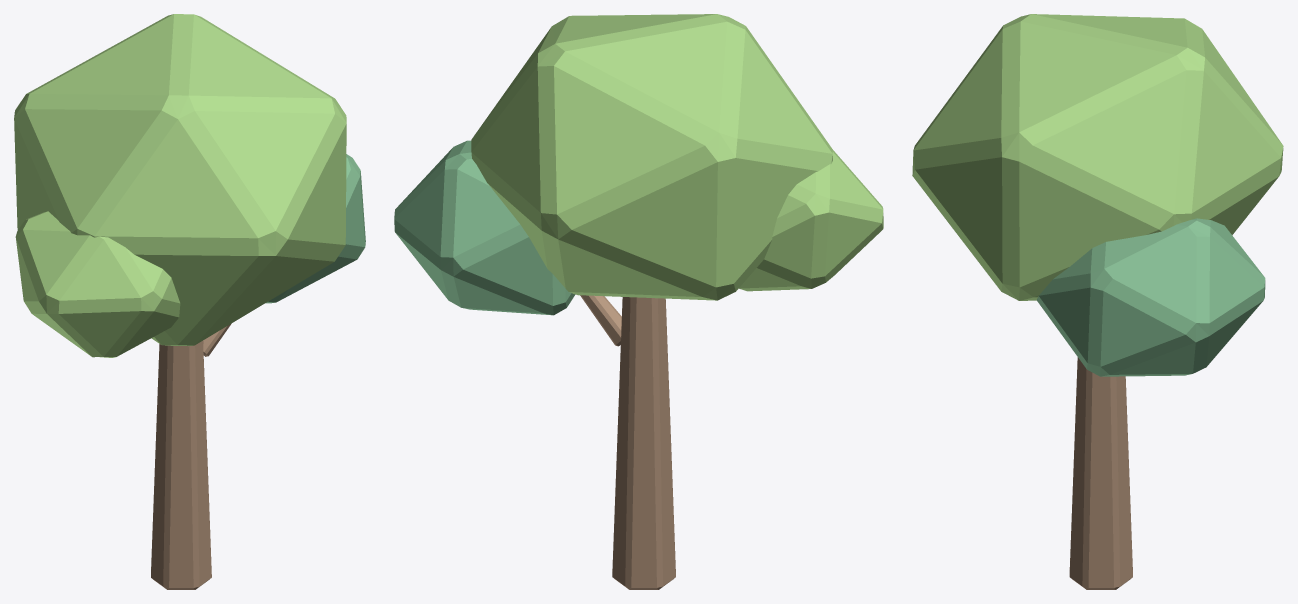
The model's file is arvore.fbx.
The picture shows the model from 3 angles, left to right: view 1: azimuth 30°, elevation 25°; view 2: azimuth 150°, elevation 25°; view 3: azimuth 270°, elevation 25°; orthographic projection. The views are drawn at different scales.
Visible parts, largest first — view 1: Árvore~Copa@leaf, Árvore~Copa traseira@leaf, Árvore~Tronco@bark, Árvore~Copa lateral@leafdark; view 2: Árvore~Copa@leaf, Árvore~Copa lateral@leafdark, Árvore~Tronco@bark, Árvore~Copa traseira@leaf, Árvore~Galho@bark; view 3: Árvore~Copa@leaf, Árvore~Copa lateral@leafdark, Árvore~Tronco@bark.
Boxes of the visible parts, x1,y1,x2,y2 form: Árvore~Copa@leaf: [14, 14, 346, 346]; Árvore~Copa traseira@leaf: [15, 211, 180, 357]; Árvore~Tronco@bark: [151, 341, 211, 589]; Árvore~Copa lateral@leafdark: [265, 154, 365, 303]; Árvore~Copa@leaf: [471, 14, 832, 300]; Árvore~Copa lateral@leafdark: [394, 140, 575, 315]; Árvore~Tronco@bark: [612, 297, 675, 589]; Árvore~Copa traseira@leaf: [739, 149, 883, 291]; Árvore~Galho@bark: [580, 295, 621, 346]; Árvore~Copa@leaf: [912, 14, 1283, 300]; Árvore~Copa lateral@leafdark: [1037, 218, 1265, 376]; Árvore~Tronco@bark: [1069, 357, 1132, 589].
Bounding box in the file's own units: 3.38 × 4.46 × 2.73.
